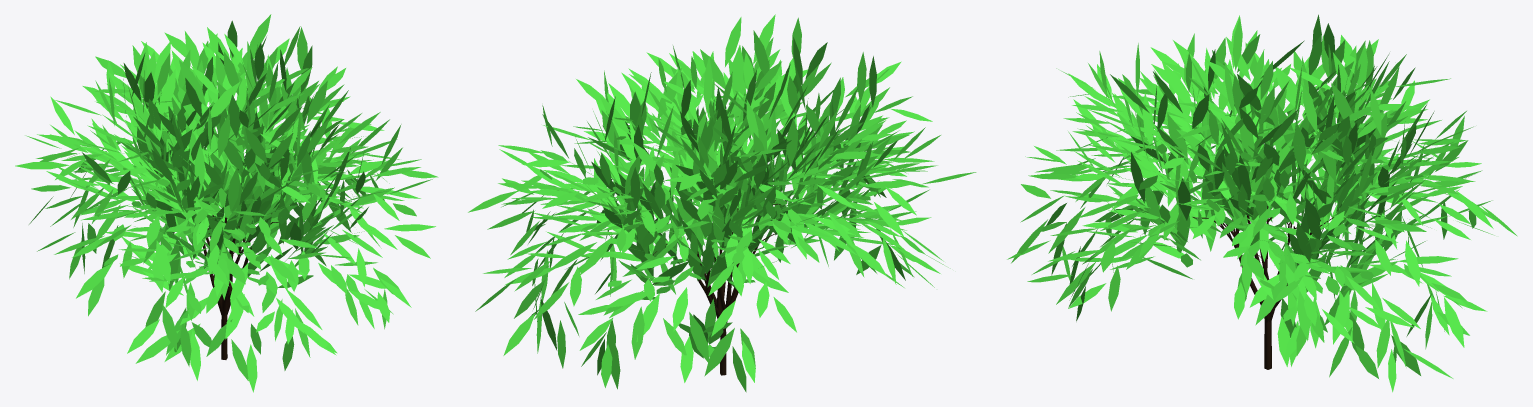
The model's file is shrub.glb.
3 renders of one model, left to right at view 1: azimuth 30°, elevation 25°; view 2: azimuth 150°, elevation 25°; view 3: azimuth 270°, elevation 25°, orthographic. The views are drawn at different scales.
Visible parts, largest first — view 1: leaves; view 2: leaves; view 3: leaves.
Part boxes in pixels (x1,y1,x2,y2): leaves: (15, 14, 438, 392); leaves: (468, 14, 976, 392); leaves: (1007, 14, 1517, 392).
Size of the model in its own units: 6.94 by 5.2 by 7.44.
